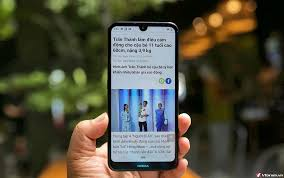nokia: (108, 16, 179, 172)
